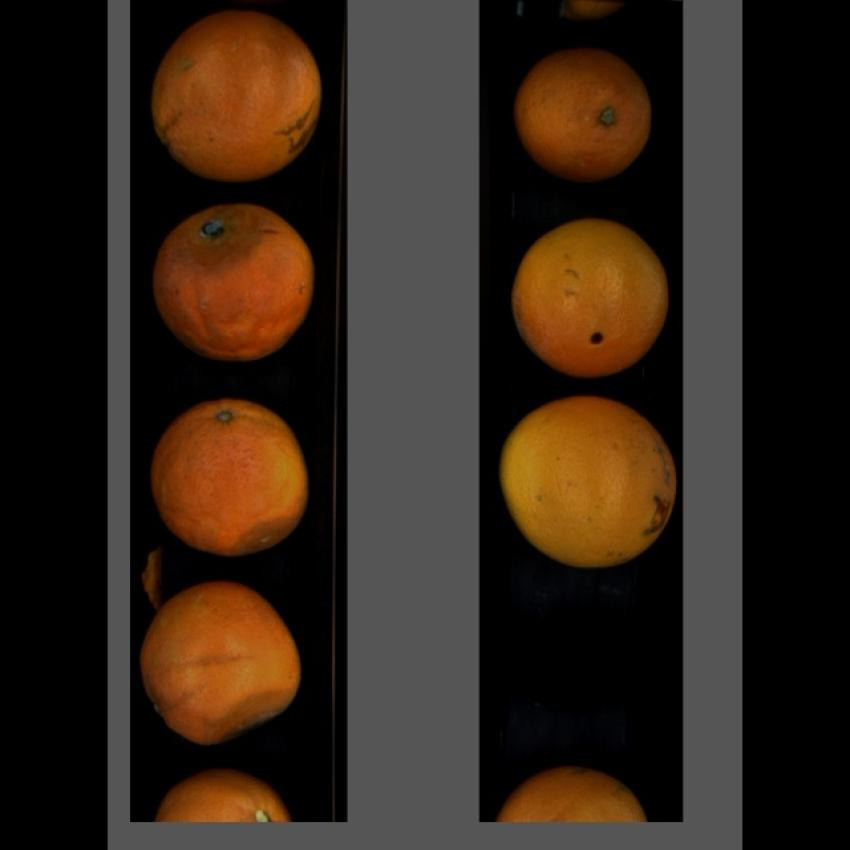Buen estado: (494, 395, 682, 577), (506, 216, 678, 380)
Mal estado: (147, 7, 330, 187), (135, 582, 313, 750), (148, 199, 320, 368), (144, 397, 322, 560), (510, 49, 664, 186), (491, 761, 654, 822), (152, 767, 295, 822)
